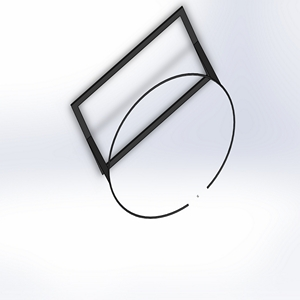circle: (69, 4, 239, 220)
